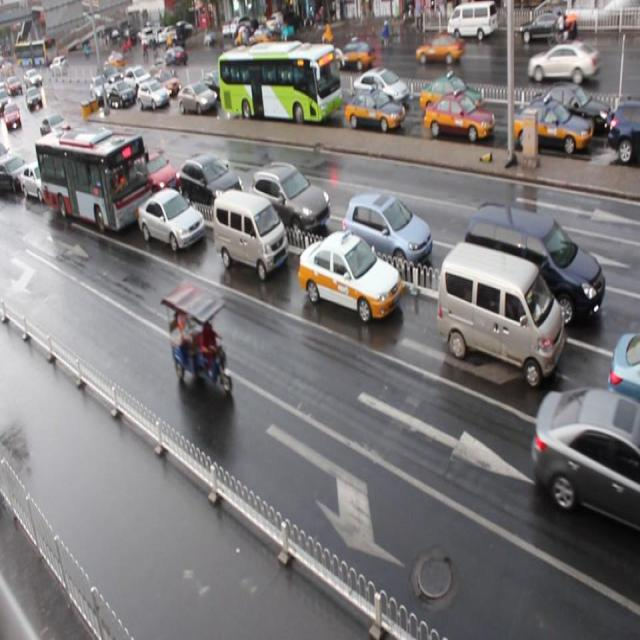car: (528, 381, 640, 526), (298, 228, 401, 322), (342, 192, 432, 276), (250, 161, 330, 234), (513, 98, 592, 156), (137, 186, 205, 251), (527, 84, 609, 135), (178, 152, 244, 213), (606, 330, 640, 436), (424, 92, 494, 140), (344, 85, 404, 133), (426, 74, 490, 119), (134, 146, 180, 199), (352, 67, 409, 108), (607, 98, 640, 159), (21, 157, 58, 202), (177, 81, 219, 117), (82, 132, 121, 170), (274, 67, 313, 102), (1, 152, 30, 194), (139, 77, 169, 113), (150, 70, 183, 98), (198, 69, 228, 99), (40, 114, 70, 140), (125, 64, 154, 90), (106, 81, 134, 106)
truck: (437, 240, 563, 388), (464, 199, 604, 328), (212, 187, 288, 279)
van: (35, 126, 154, 234), (216, 43, 340, 123)
